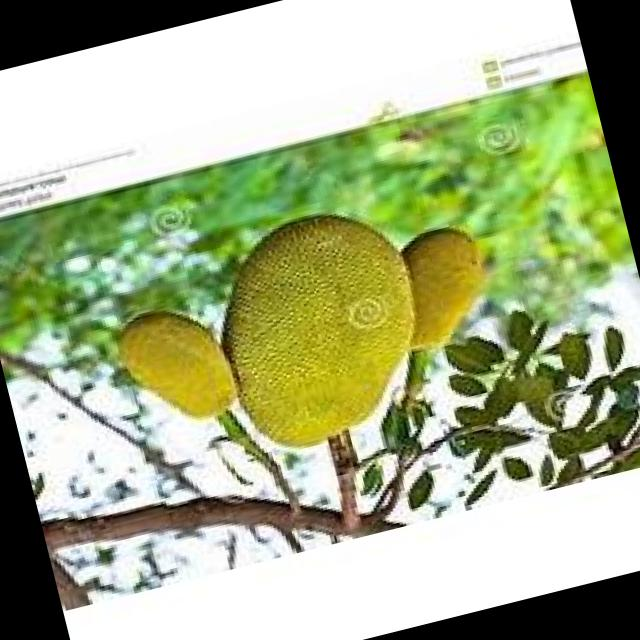Fruit: (184, 175, 456, 475), (94, 282, 255, 450)
